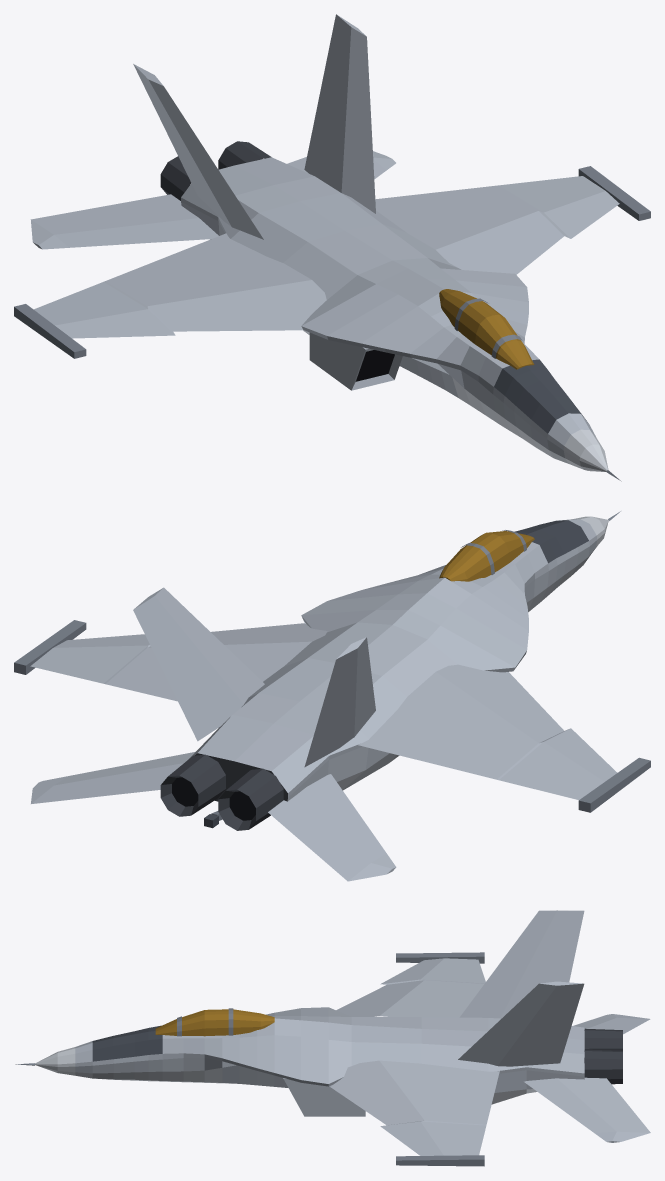
Rendered from hornet.glb.
The picture shows the model from 3 angles, top to bottom: view 1: azimuth 30°, elevation 25°; view 2: azimuth 150°, elevation 25°; view 3: azimuth 270°, elevation 25°; orthographic projection. The views are drawn at different scales.
Visible parts, largest first — view 1: HORNET_body, HORNET_stab_R, HORNET_canopy; view 2: HORNET_body, HORNET_stab_R, HORNET_stab_L, HORNET_canopy; view 3: HORNET_body, HORNET_stab_L, HORNET_canopy, HORNET_stab_R.
Part boxes in pixels (x1=…): HORNET_body: x1=14, y1=14, x2=650, y2=481; HORNET_stab_R: x1=30, y1=194, x2=218, y2=249; HORNET_canopy: x1=439, y1=289, x2=534, y2=369; HORNET_body: x1=14, y1=511, x2=650, y2=830; HORNET_stab_R: x1=268, y1=774, x2=396, y2=881; HORNET_stab_L: x1=31, y1=752, x2=195, y2=803; HORNET_canopy: x1=439, y1=530, x2=534, y2=581; HORNET_body: x1=15, y1=910, x2=622, y2=1166; HORNET_stab_L: x1=524, y1=1077, x2=650, y2=1142; HORNET_canopy: x1=155, y1=1008, x2=274, y2=1036; HORNET_stab_R: x1=573, y1=1014, x2=650, y2=1034.
Size of the model in its own units: 14 by 4.71 by 18.2.
